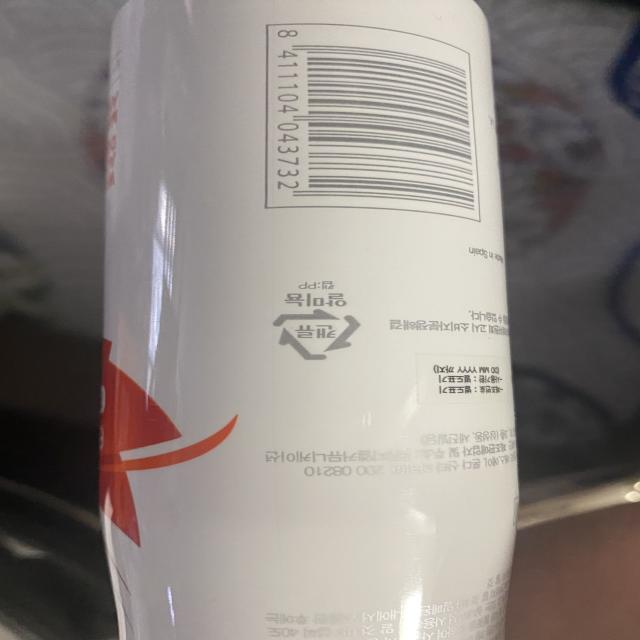Can: (268, 309, 364, 361)
